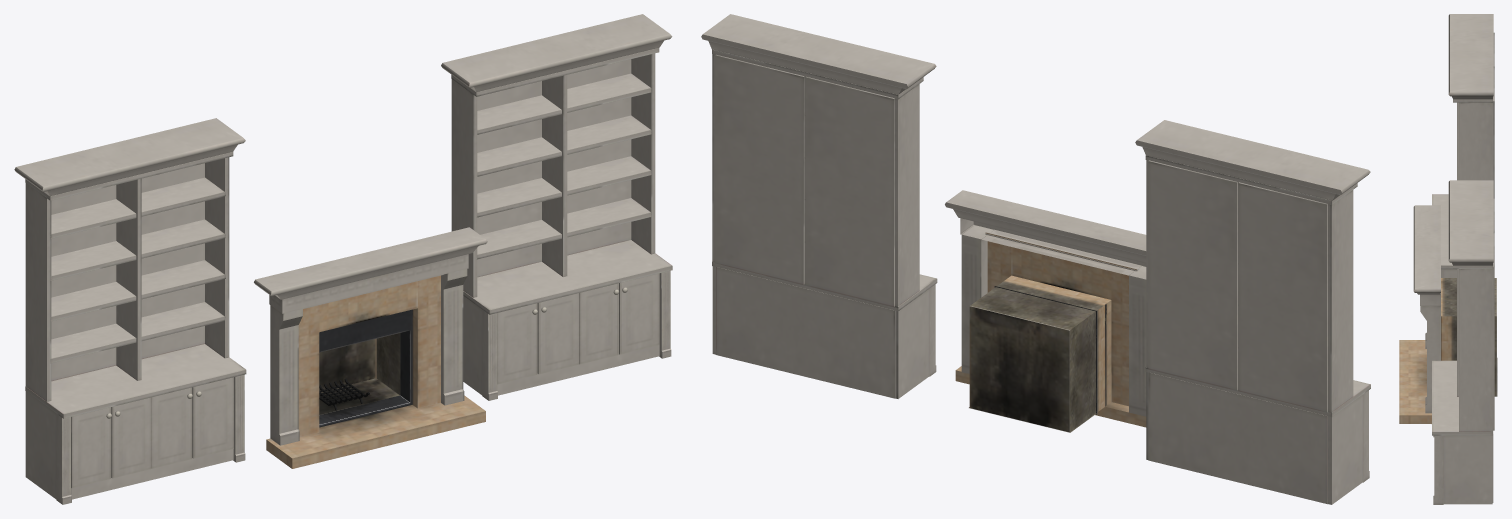
File: Fireplace_withWall_withBookshelf.FBX
3 renders of one model, left to right at view 1: azimuth 30°, elevation 25°; view 2: azimuth 150°, elevation 25°; view 3: azimuth 270°, elevation 25°, orthographic. The views are drawn at different scales.
Parts seen in each view (by area): view 1: Fireplace_withWall_withBookshelf; view 2: Fireplace_withWall_withBookshelf; view 3: Fireplace_withWall_withBookshelf.
Part boxes in pixels (left/top/right/bottom): Fireplace_withWall_withBookshelf: left=14, top=14, right=672, bottom=504; Fireplace_withWall_withBookshelf: left=701, top=14, right=1370, bottom=504; Fireplace_withWall_withBookshelf: left=1399, top=14, right=1497, bottom=504.
Size of the model in its own units: 518 by 245 by 87.25.
